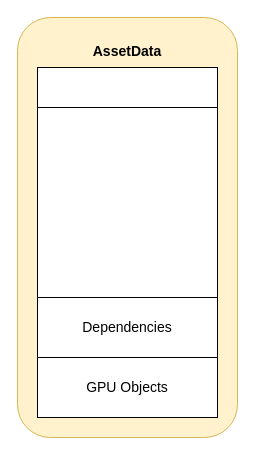
This 255x455 diagram has some shape labels left out. Here are the shapes that lost their labels. From the top down, the centre of each, then its label:
At pixel 127 87: "Metadata".
At pixel 127 202: "Object Data".
